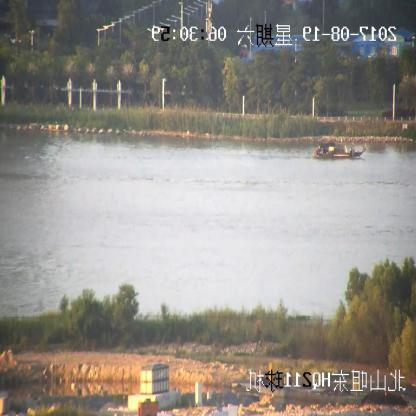Fishing Boat: (315, 140, 364, 160)
